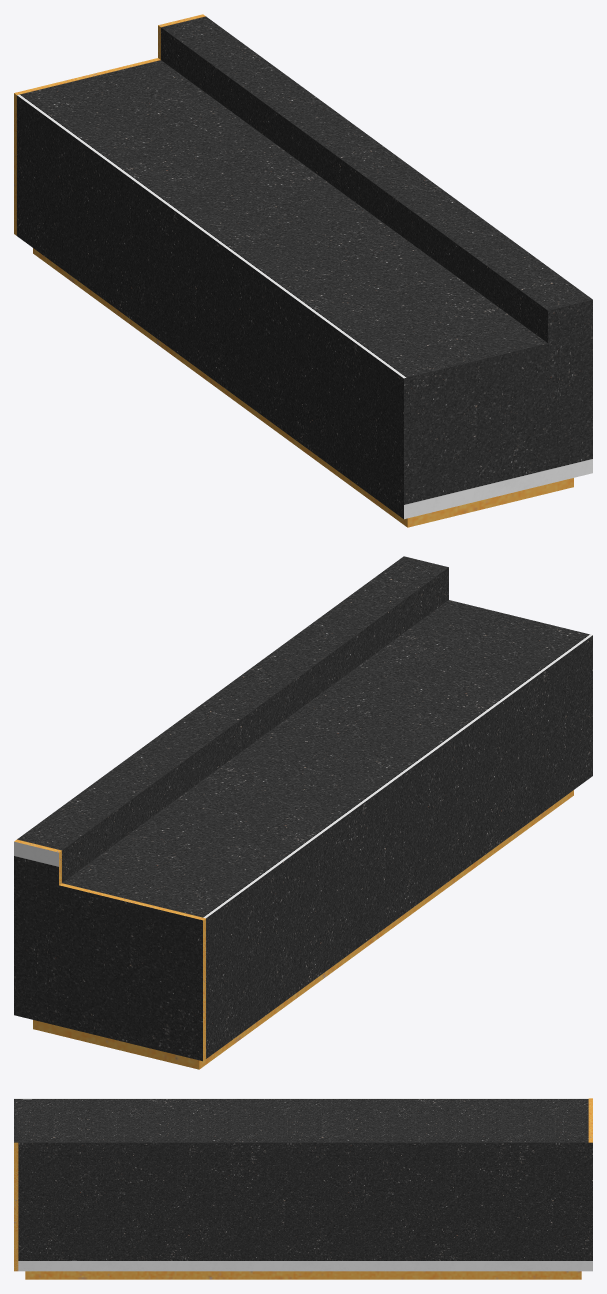
Rendered from Front_Desk.fbx.
3 renders of one model, top to bottom at view 1: azimuth 30°, elevation 25°; view 2: azimuth 150°, elevation 25°; view 3: azimuth 270°, elevation 25°, orthographic. The views are drawn at different scales.
Parts seen in each view (by area): view 1: Front_Desk; view 2: Front_Desk; view 3: Front_Desk.
Part boxes in pixels (x1,y1,x2,y2): Front_Desk: (14,14,592,527); Front_Desk: (14,556,592,1069); Front_Desk: (14,1098,592,1279).
Size of the model in its own units: 132 by 127 by 471.
